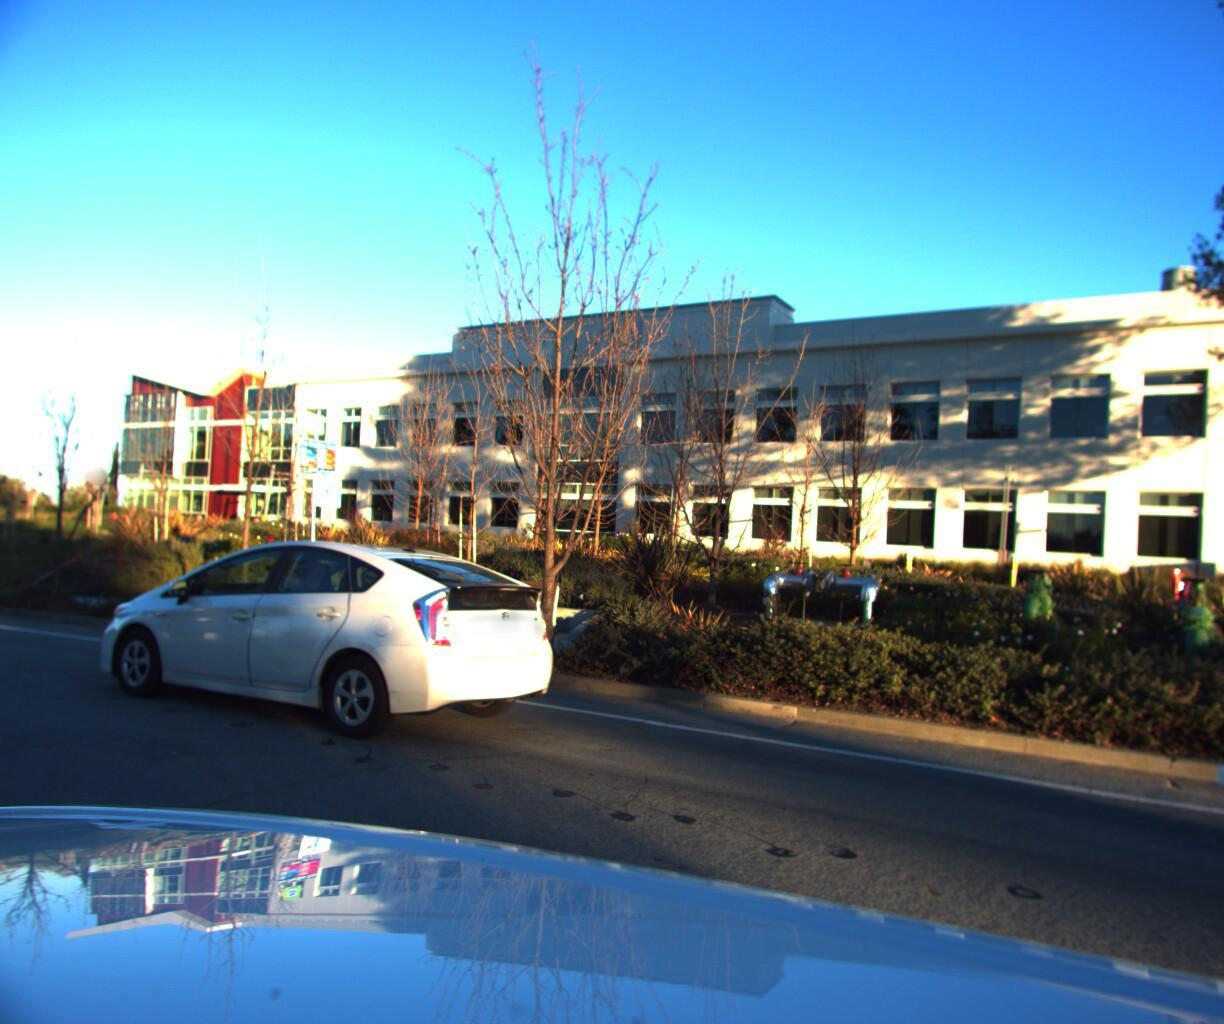car: (71, 529, 590, 767)
